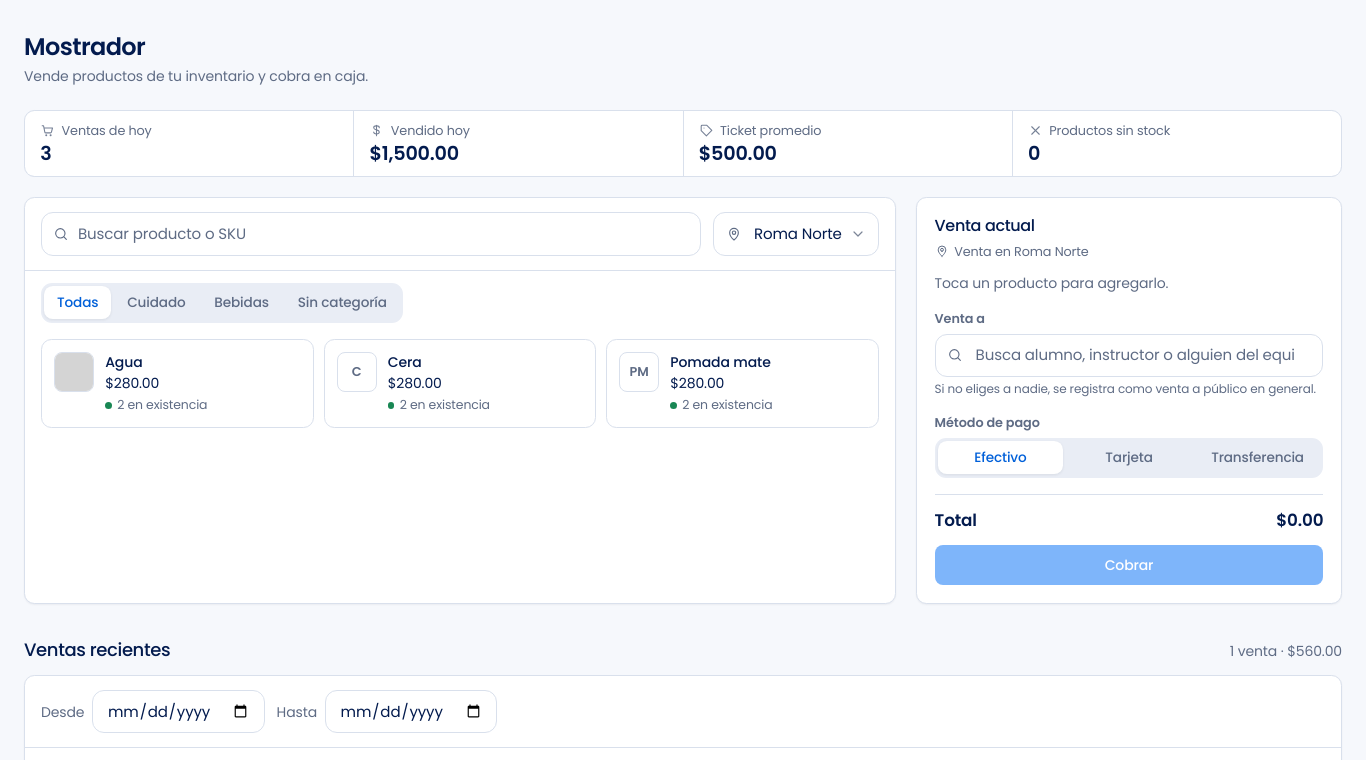
Scenario: ventas recientes del mostrador › filtra los productos por categoría; sin categorías no hay filtro
Click the button "Bebidas" at point(242, 303), box [202, 286, 282, 320]
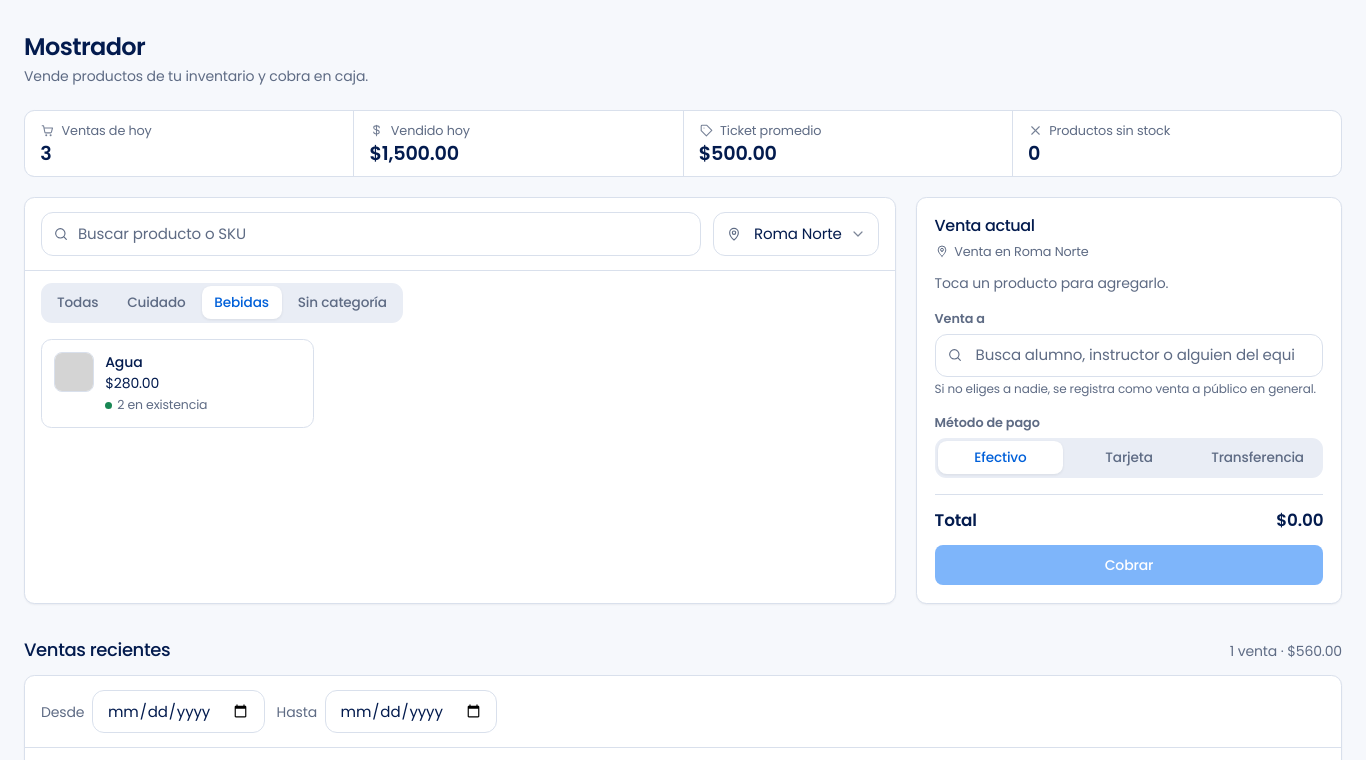
Click the button "Sin categoría" at point(342, 303), box [285, 286, 400, 320]
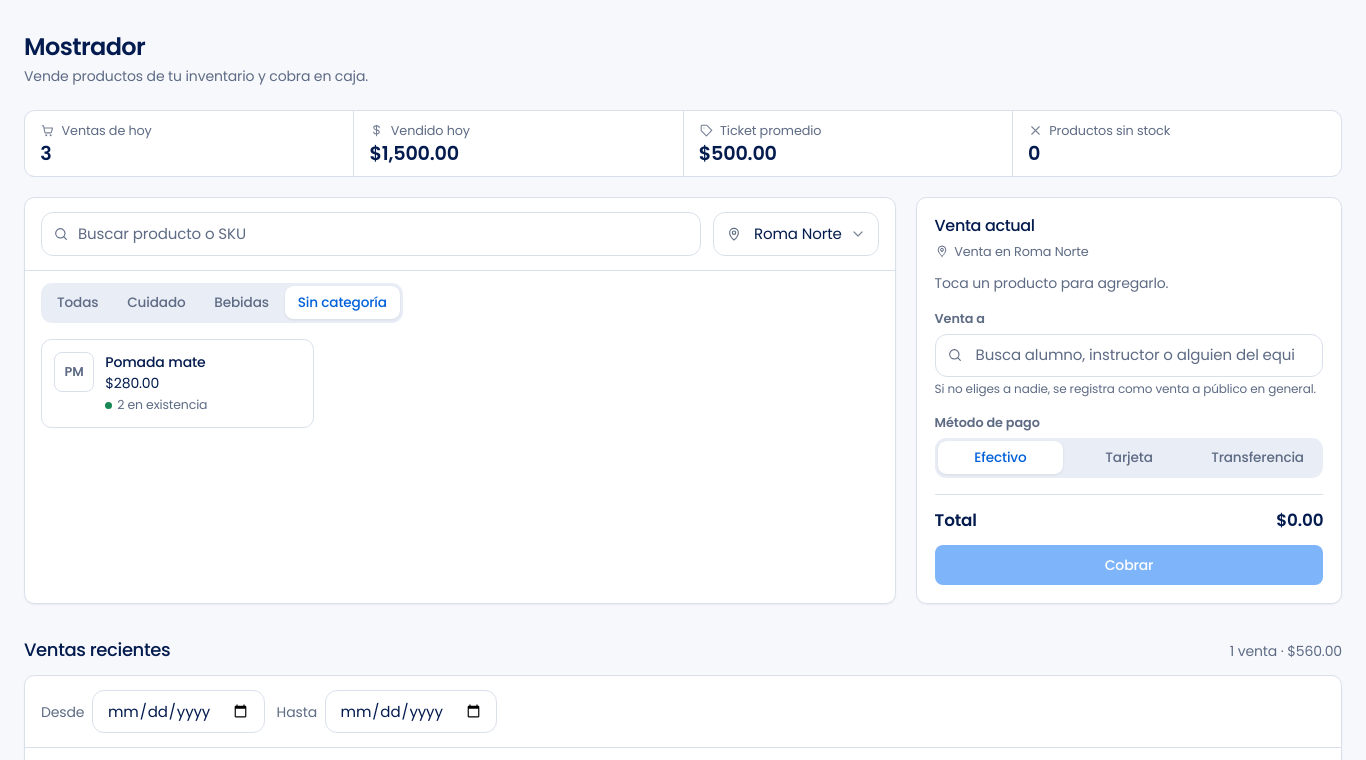
Expected: the button "PM Pomada mate $280.00 2 en existencia" is shown, [41, 339, 314, 428]
